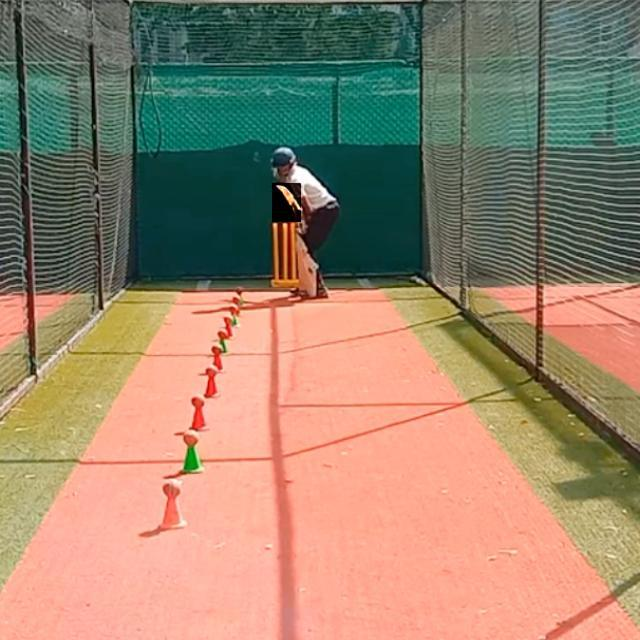bat: (271, 183, 302, 222)
